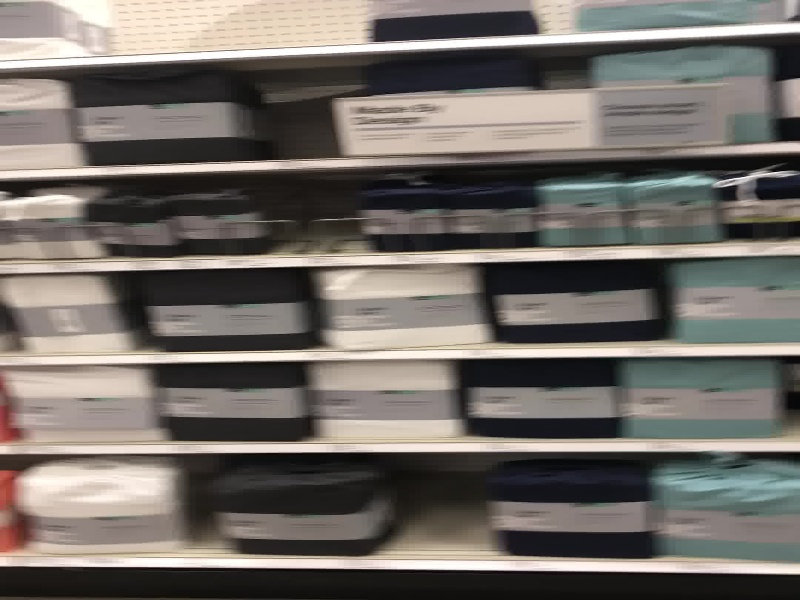empty_shelf_space: (77, 1, 368, 59), (377, 454, 488, 561)
